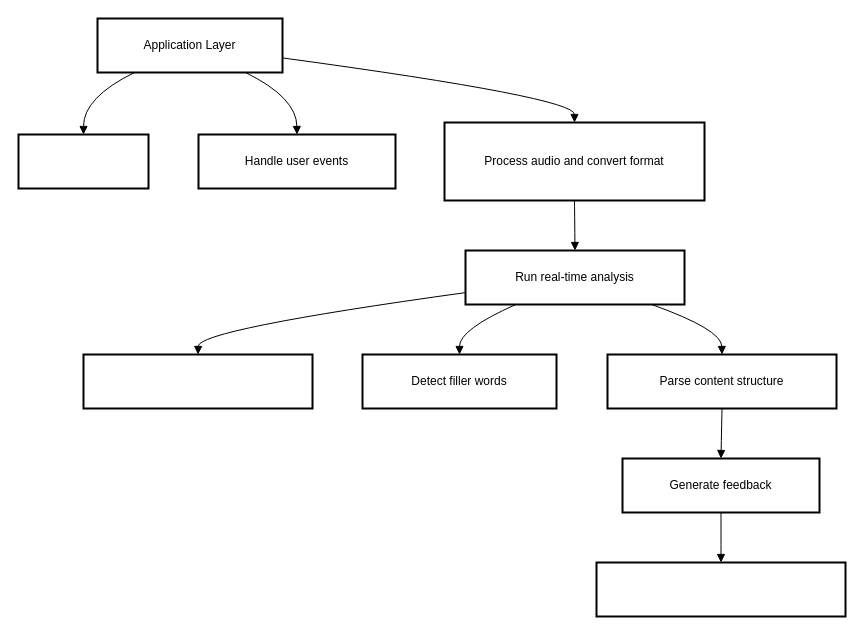
The diagram is 863 pixels wide and 634 high, and some of its shapes have lost their labels. Here are the shapes that lost their labels. From the top down, the box of each, then its label:
(17, 133, 149, 189): Render UI
(82, 353, 313, 409): Calculate speaking rate
(595, 561, 846, 617): Format and display results
